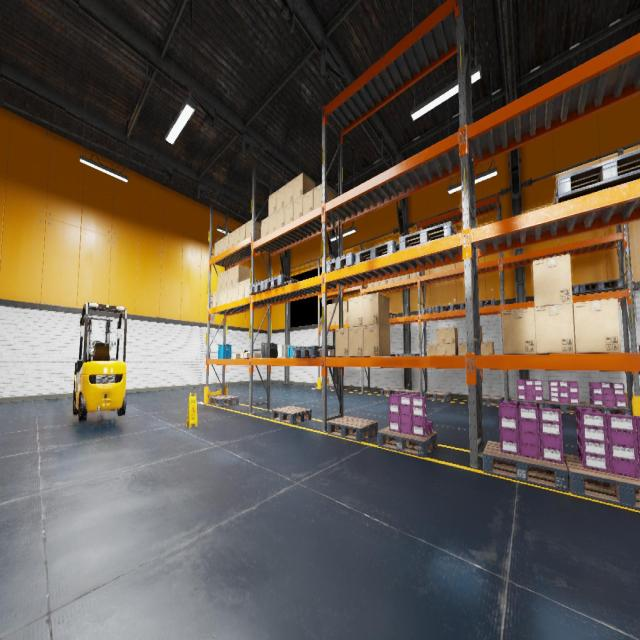box: (573, 298, 621, 353), (532, 254, 572, 307), (535, 303, 575, 354), (502, 307, 536, 354), (363, 324, 390, 356), (363, 293, 389, 326), (314, 183, 336, 216), (293, 172, 315, 200), (348, 296, 363, 327), (349, 326, 363, 357), (335, 328, 349, 357), (244, 278, 262, 298), (232, 265, 250, 284), (246, 219, 261, 239), (303, 189, 313, 215), (293, 195, 303, 220), (284, 179, 293, 206), (276, 185, 284, 211), (445, 327, 458, 343), (284, 202, 293, 225), (268, 191, 276, 216), (276, 207, 284, 229), (268, 212, 276, 234), (481, 342, 494, 354), (445, 343, 458, 355), (261, 216, 268, 238), (436, 328, 445, 344), (238, 280, 244, 300), (240, 223, 246, 242), (227, 267, 233, 286), (222, 270, 228, 289), (232, 283, 238, 301), (427, 344, 436, 356), (458, 342, 466, 355), (223, 234, 229, 251), (436, 344, 445, 355), (234, 227, 239, 245), (229, 230, 234, 248), (227, 285, 232, 303), (222, 287, 227, 304), (217, 289, 222, 306), (214, 240, 219, 256), (410, 271, 421, 278), (218, 272, 222, 290), (219, 238, 223, 254), (213, 291, 217, 307), (343, 301, 348, 312), (331, 314, 336, 325), (331, 303, 336, 314), (343, 312, 347, 324), (394, 276, 402, 282), (327, 304, 331, 315), (233, 353, 240, 359), (402, 274, 409, 280), (387, 278, 394, 284), (380, 279, 387, 285), (253, 353, 261, 358), (327, 315, 331, 325), (336, 302, 339, 314), (243, 353, 250, 358), (480, 326, 482, 342), (336, 314, 339, 324), (374, 281, 380, 286), (368, 283, 373, 287), (240, 353, 243, 358), (347, 312, 348, 323)
forklift: (73, 302, 127, 421)
pallets: (553, 149, 640, 204), (482, 441, 569, 492), (564, 454, 640, 510), (378, 426, 438, 458), (399, 222, 456, 250), (327, 416, 378, 441), (355, 240, 399, 264), (578, 279, 624, 295), (272, 406, 312, 424), (581, 403, 631, 415), (326, 252, 355, 272), (264, 274, 300, 290), (544, 400, 584, 413), (293, 346, 335, 357), (510, 398, 544, 410), (209, 394, 239, 406), (249, 281, 274, 295), (424, 391, 451, 401), (482, 395, 503, 406), (440, 303, 465, 312), (399, 389, 423, 396), (381, 388, 403, 395), (421, 306, 440, 314), (479, 299, 495, 307), (322, 384, 339, 390), (572, 284, 579, 296), (389, 312, 396, 318)
